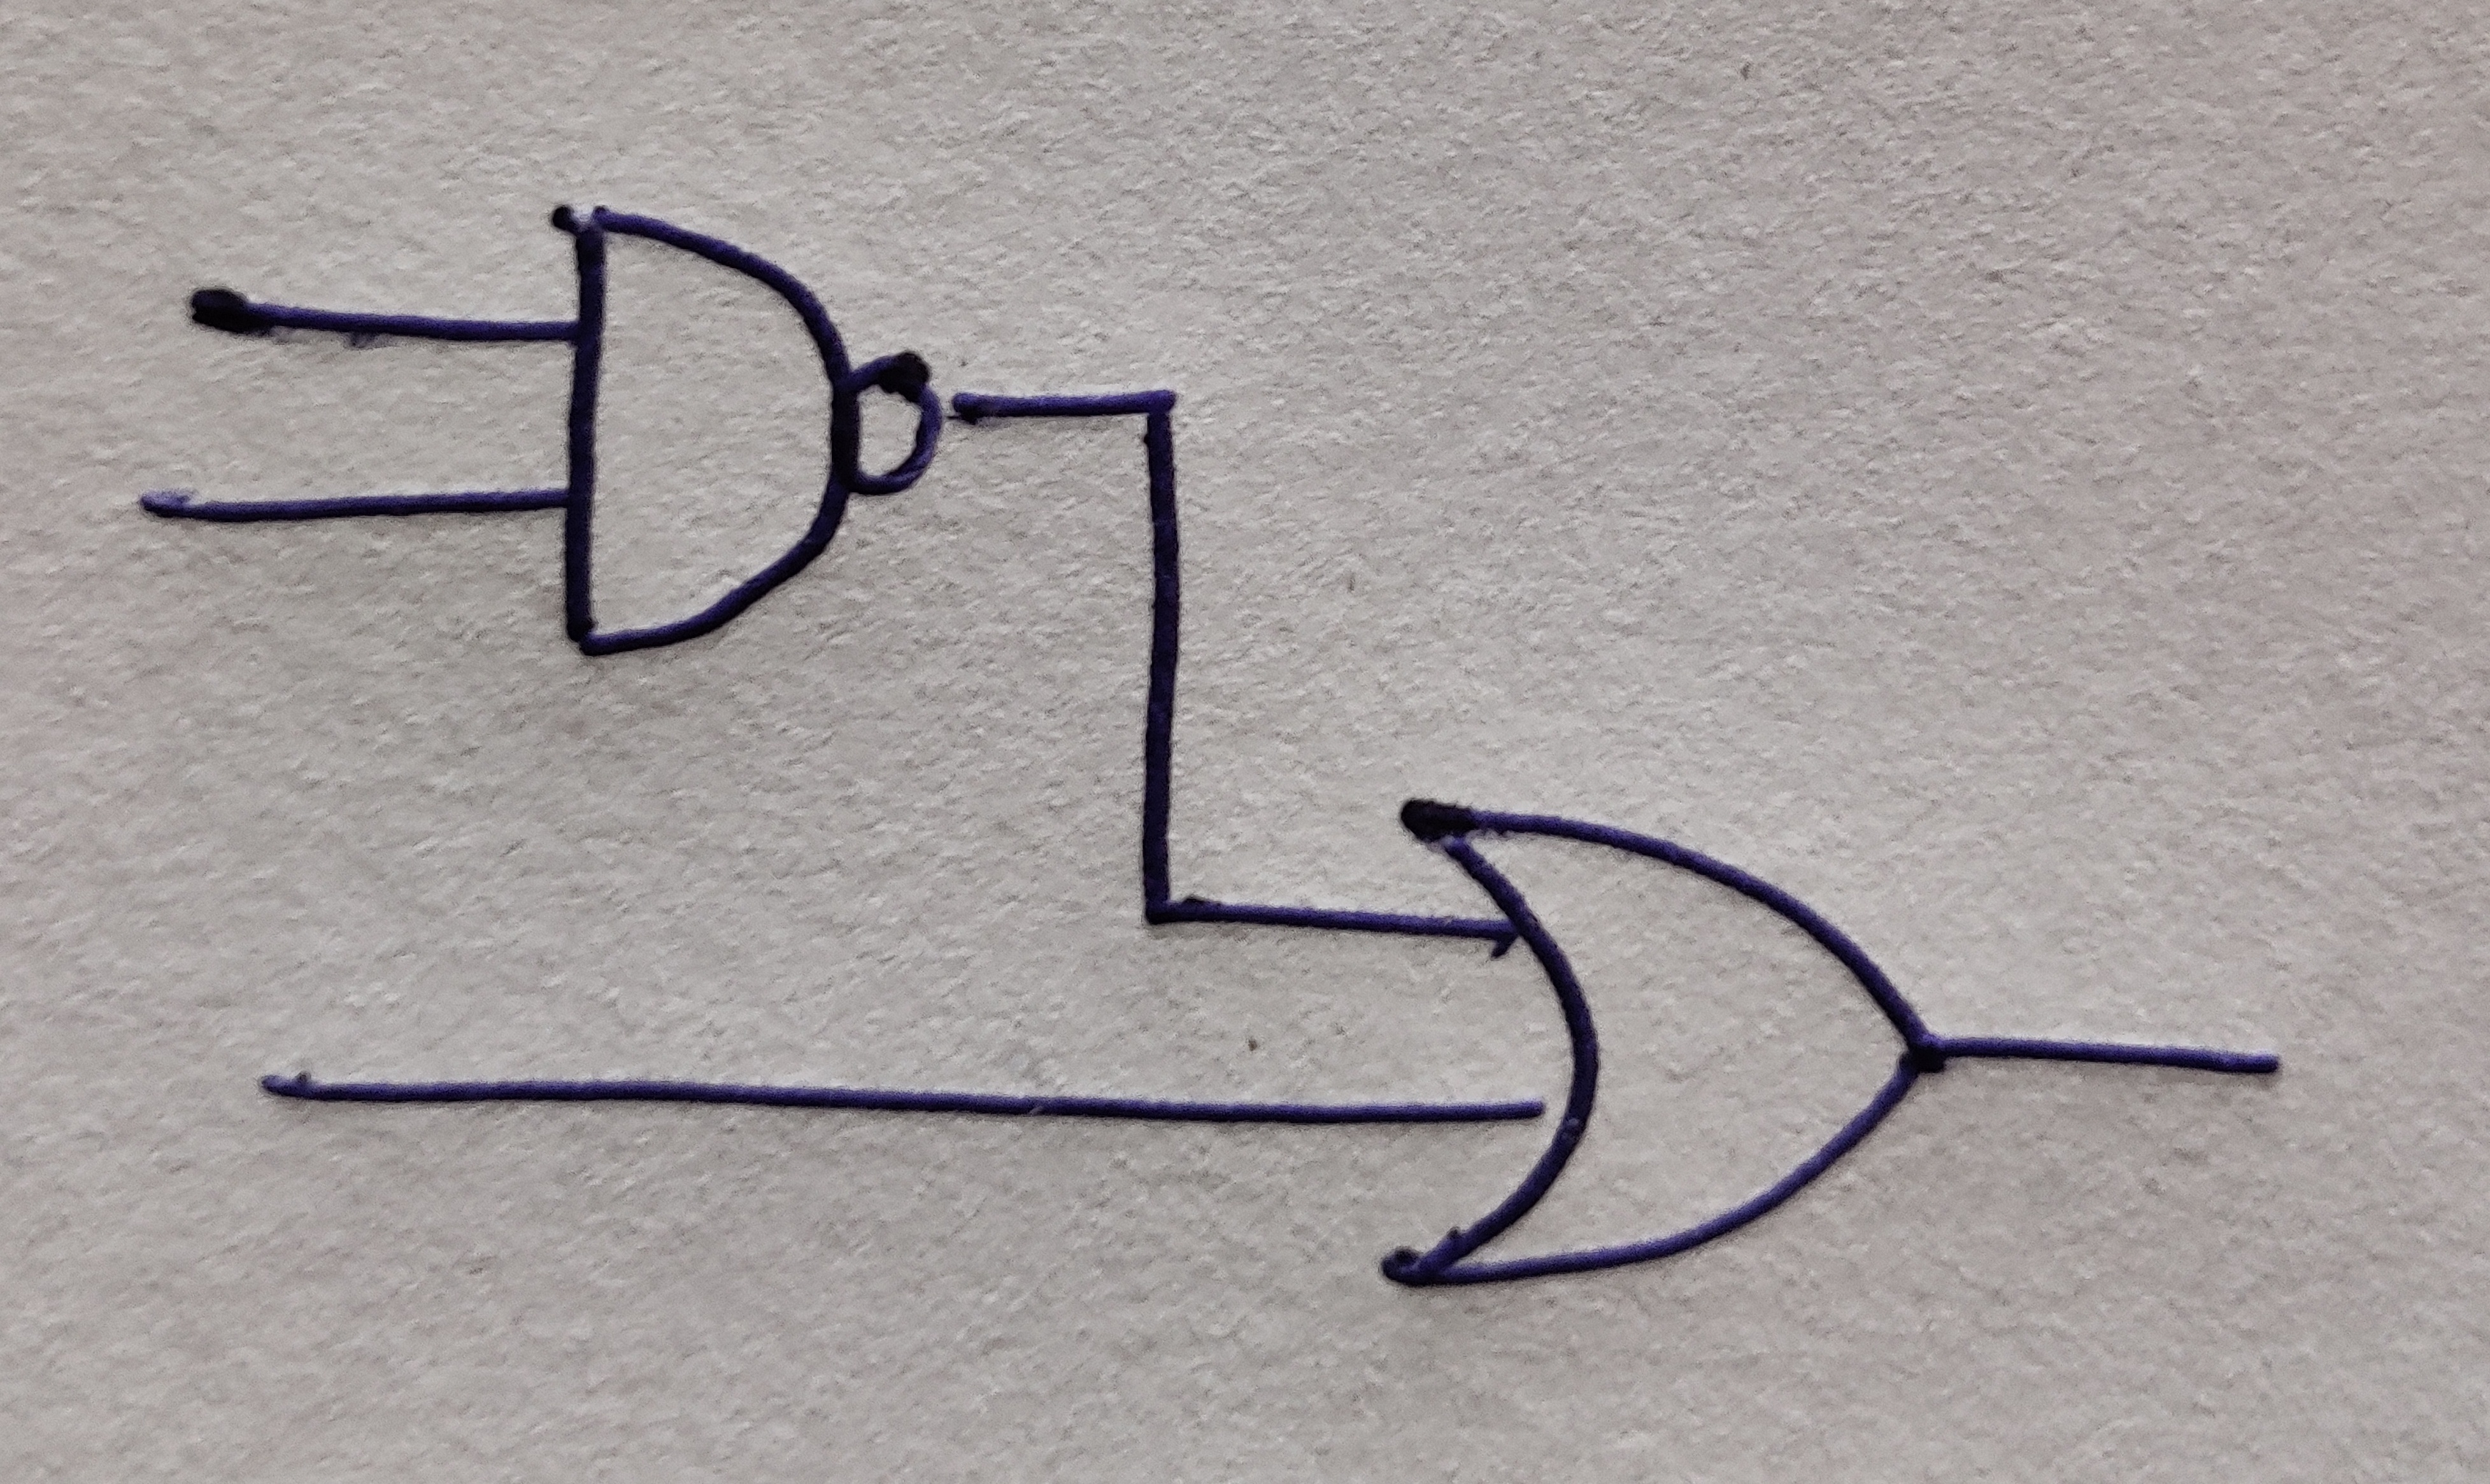and: (548, 205, 859, 657)
not: (838, 353, 937, 496)
or: (1384, 799, 1937, 1286)
